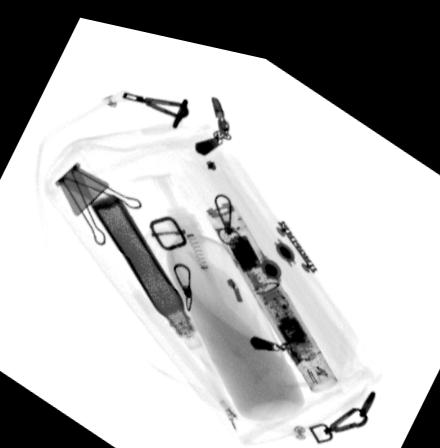Baton: (203, 188, 338, 380)
